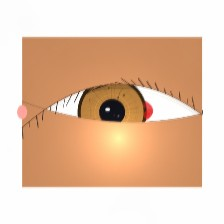hemorrhage_spot: (88, 81, 163, 141)
